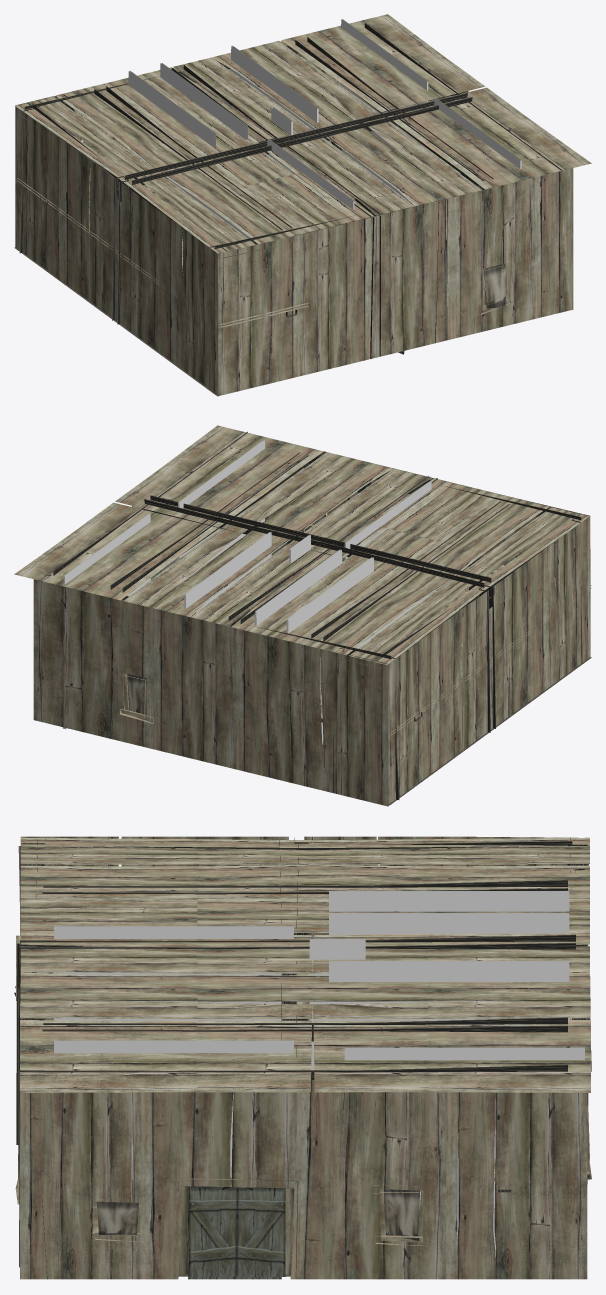
Rendered from interior_shanty_store.fbx.
The picture shows the model from 3 angles, top to bottom: view 1: azimuth 30°, elevation 25°; view 2: azimuth 150°, elevation 25°; view 3: azimuth 270°, elevation 25°; orthographic projection. The views are drawn at different scales.
Parts seen in each view (by area): view 1: ceiling1, wall_4, wall_1, cealing_beams_2, ray_2, ray_7, ray_1, ray_6, cealing_beams_3, ray_4, ray_5, cealing_beams_5 (+9 smaller); view 2: ceiling1, wall_3, wall_1, cealing_beams_2, ray_2, ray_7, ray_1, cealing_beams_3, ray_5, ray_4, cealing_beams_5, ray_6 (+8 smaller); view 3: ceiling1, wall_2, ray_2, ray_1, ray_7, ray_4, door_left.001, door_right.001, ray_6, cealing_beams_1, cealing_beams_3, ray_5 (+10 smaller).
Boxes of the visible parts, left/top/right/bottom form: ceiling1: left=15, top=14, right=591, bottom=253; wall_4: left=218, top=168, right=573, bottom=395; wall_1: left=15, top=106, right=218, bottom=396; cealing_beams_2: left=125, top=92, right=472, bottom=185; ray_2: left=231, top=45, right=318, bottom=142; ray_7: left=128, top=70, right=216, bottom=214; ray_1: left=160, top=63, right=248, bottom=238; ray_6: left=340, top=19, right=428, bottom=229; cealing_beams_3: left=295, top=37, right=493, bottom=186; ray_4: left=267, top=138, right=354, bottom=209; ray_5: left=434, top=97, right=521, bottom=264; cealing_beams_5: left=94, top=86, right=292, bottom=230; ceiling1: left=14, top=425, right=588, bottom=664; wall_3: left=33, top=579, right=388, bottom=806; wall_1: left=388, top=516, right=590, bottom=805; cealing_beams_2: left=144, top=495, right=491, bottom=587; ray_2: left=184, top=532, right=271, bottom=612; ray_7: left=286, top=557, right=374, bottom=744; ray_1: left=254, top=549, right=342, bottom=625; cealing_beams_3: left=110, top=452, right=308, bottom=592; ray_5: left=177, top=440, right=264, bottom=585; ray_4: left=344, top=481, right=431, bottom=635; cealing_beams_5: left=311, top=501, right=509, bottom=641; ray_6: left=62, top=513, right=150, bottom=729; ceiling1: left=20, top=837, right=590, bottom=1092; wall_2: left=20, top=1080, right=587, bottom=1279; ray_2: left=329, top=961, right=569, bottom=1020; ray_1: left=329, top=913, right=569, bottom=934; ray_7: left=329, top=891, right=569, bottom=911; ray_4: left=54, top=926, right=293, bottom=1020; door_left.001: left=236, top=1187, right=285, bottom=1276; door_right.001: left=189, top=1186, right=237, bottom=1276; ray_6: left=344, top=1047, right=584, bottom=1257; cealing_beams_1: left=20, top=934, right=575, bottom=963; cealing_beams_3: left=42, top=1017, right=567, bottom=1041; ray_5: left=54, top=1040, right=293, bottom=1198.
Size of the model in its own units: 6730 by 2834 by 6381.
6 materials, 6 textured.
